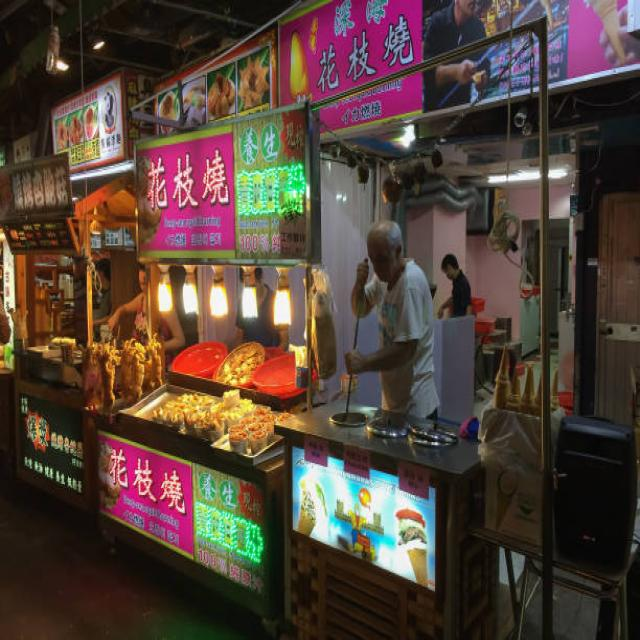Emperan: (268, 191, 542, 640)
